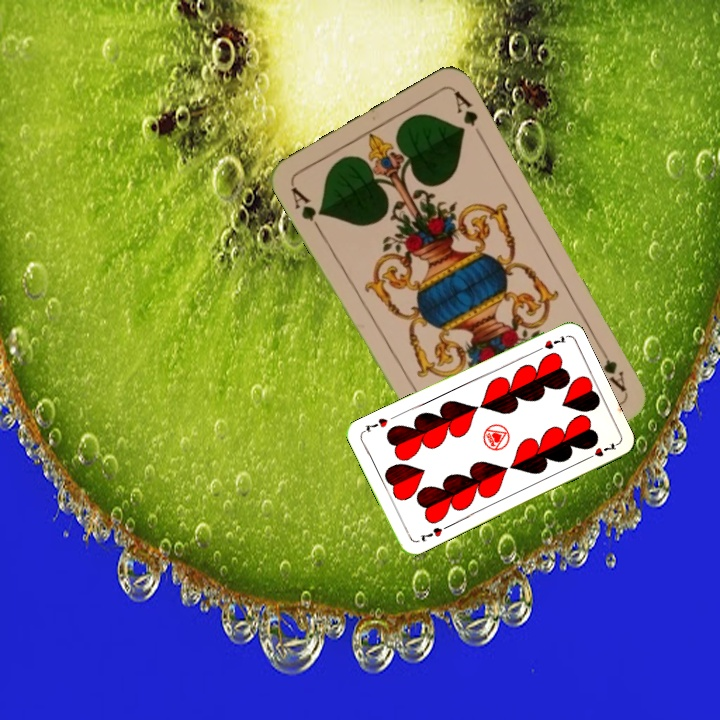GA: (287, 182, 327, 235), (593, 340, 630, 395)
H7: (530, 332, 569, 355), (416, 523, 445, 544)
